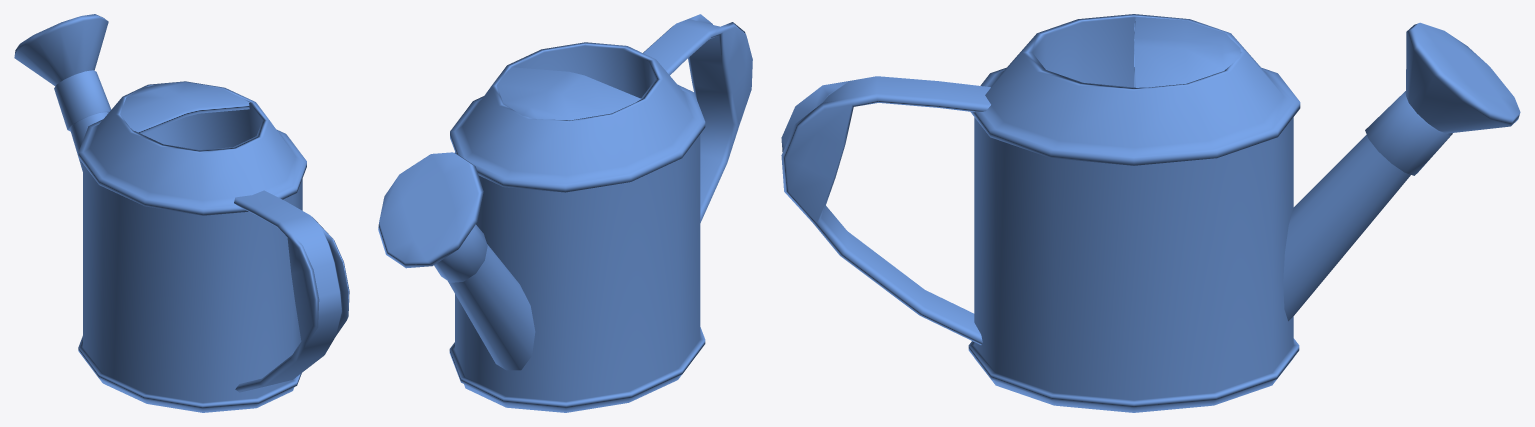
The model's file is Regador.fbx.
3 views of the same model, side by side, from view 1: azimuth 30°, elevation 25°; view 2: azimuth 150°, elevation 25°; view 3: azimuth 270°, elevation 25° (orthographic). The views are drawn at different scales.
Parts seen in each view (by area): view 1: Cylinder.002; view 2: Cylinder.002; view 3: Cylinder.002.
Part boxes in pixels (x1,y1,x2,y2): Cylinder.002: [14, 14, 349, 412]; Cylinder.002: [378, 14, 752, 412]; Cylinder.002: [781, 14, 1520, 412].
Size of the model in its own units: 0.7693 by 1.03 by 2.1.
